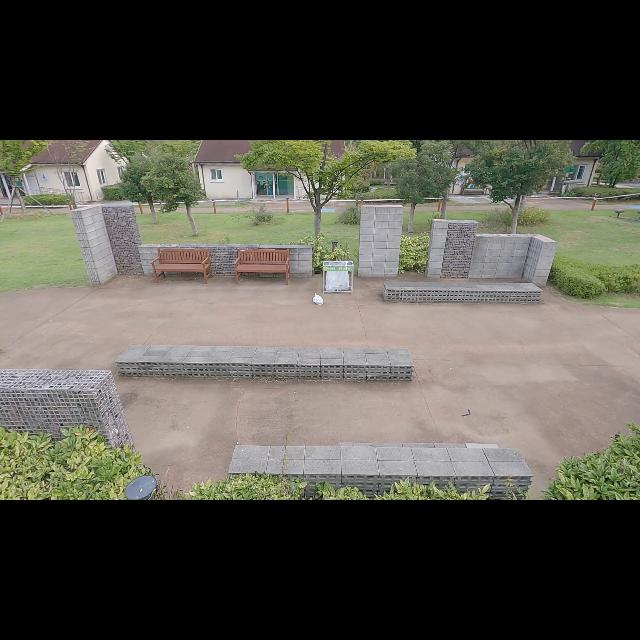trash: (310, 290, 326, 306)
